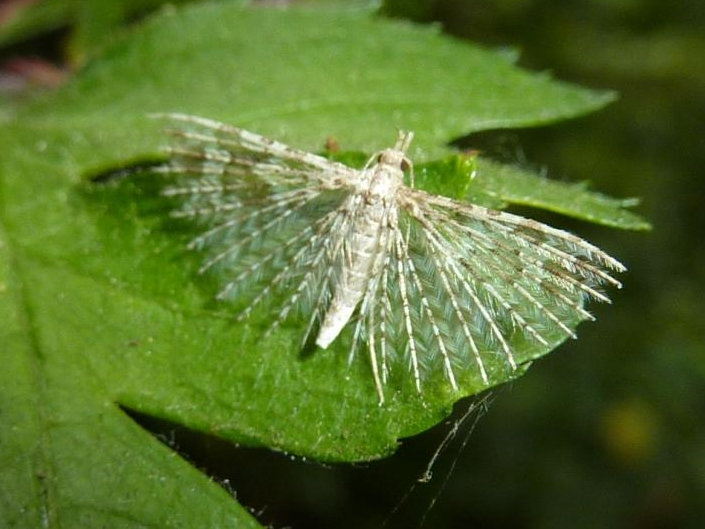Alucitidae: (145, 97, 629, 407)
moth: (143, 95, 627, 405)
